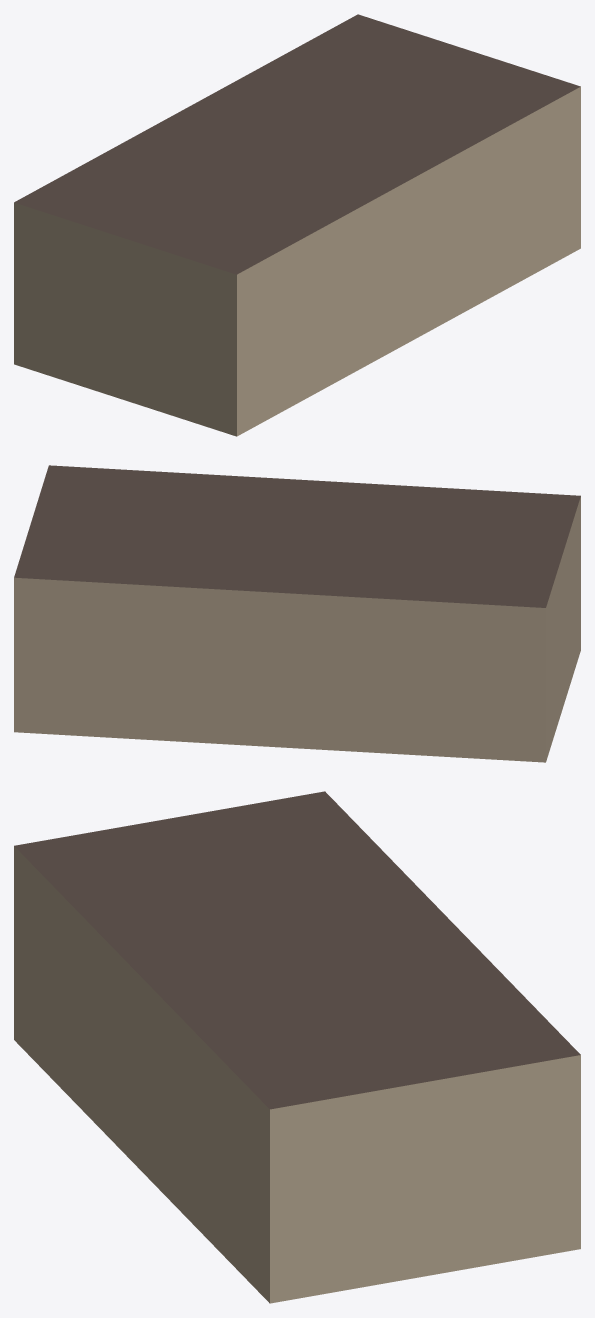
3 views of the same model, one above another, from view 1: azimuth 30°, elevation 25°; view 2: azimuth 150°, elevation 25°; view 3: azimuth 270°, elevation 25° (orthographic). The views are drawn at different scales.
Parts seen in each view (by area): view 1: HP-w776801032; view 2: HP-w776801032; view 3: HP-w776801032.
Part boxes in pixels (x1,y1,x2,y2): HP-w776801032: (14,14,580,436); HP-w776801032: (14,465,580,762); HP-w776801032: (14,791,580,1303).
Size of the model in its own units: 31.63 by 9 by 23.83.
